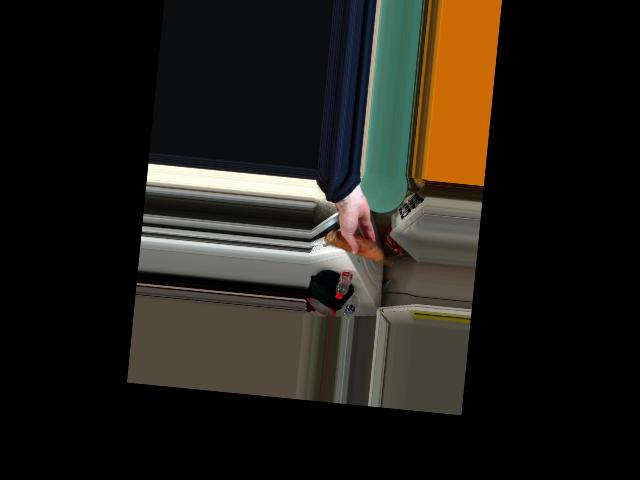sweet_potato: (326, 227, 393, 268)
